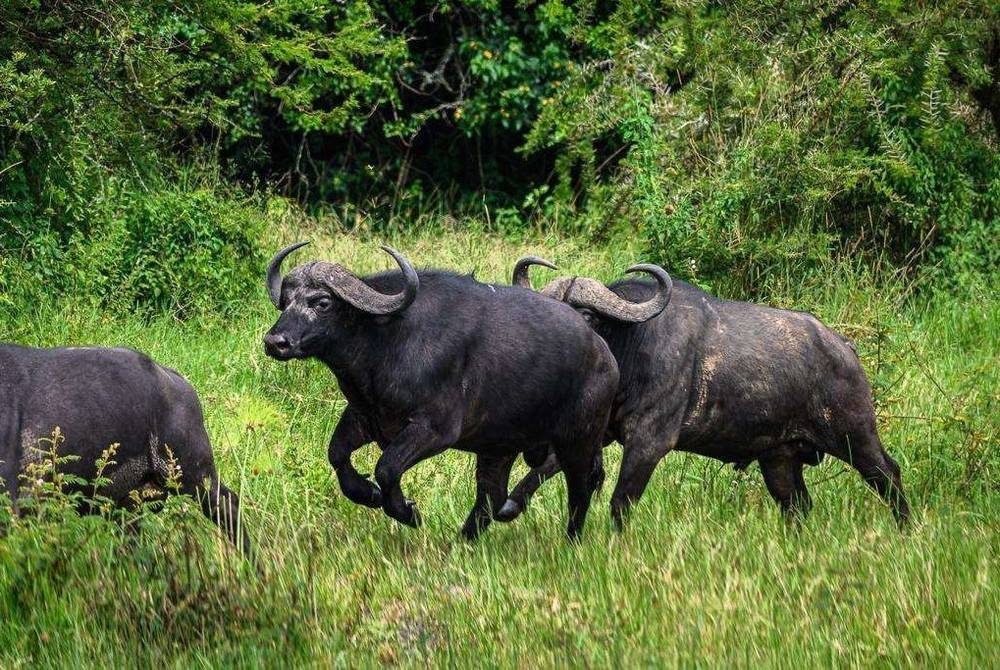buffalo: (510, 245, 935, 550), (259, 232, 622, 552), (1, 340, 275, 597)
